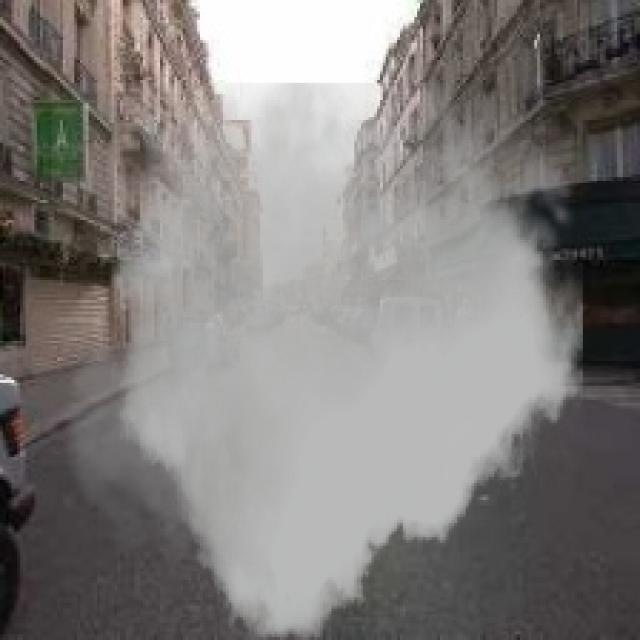Smoke: (51, 82, 594, 638)
